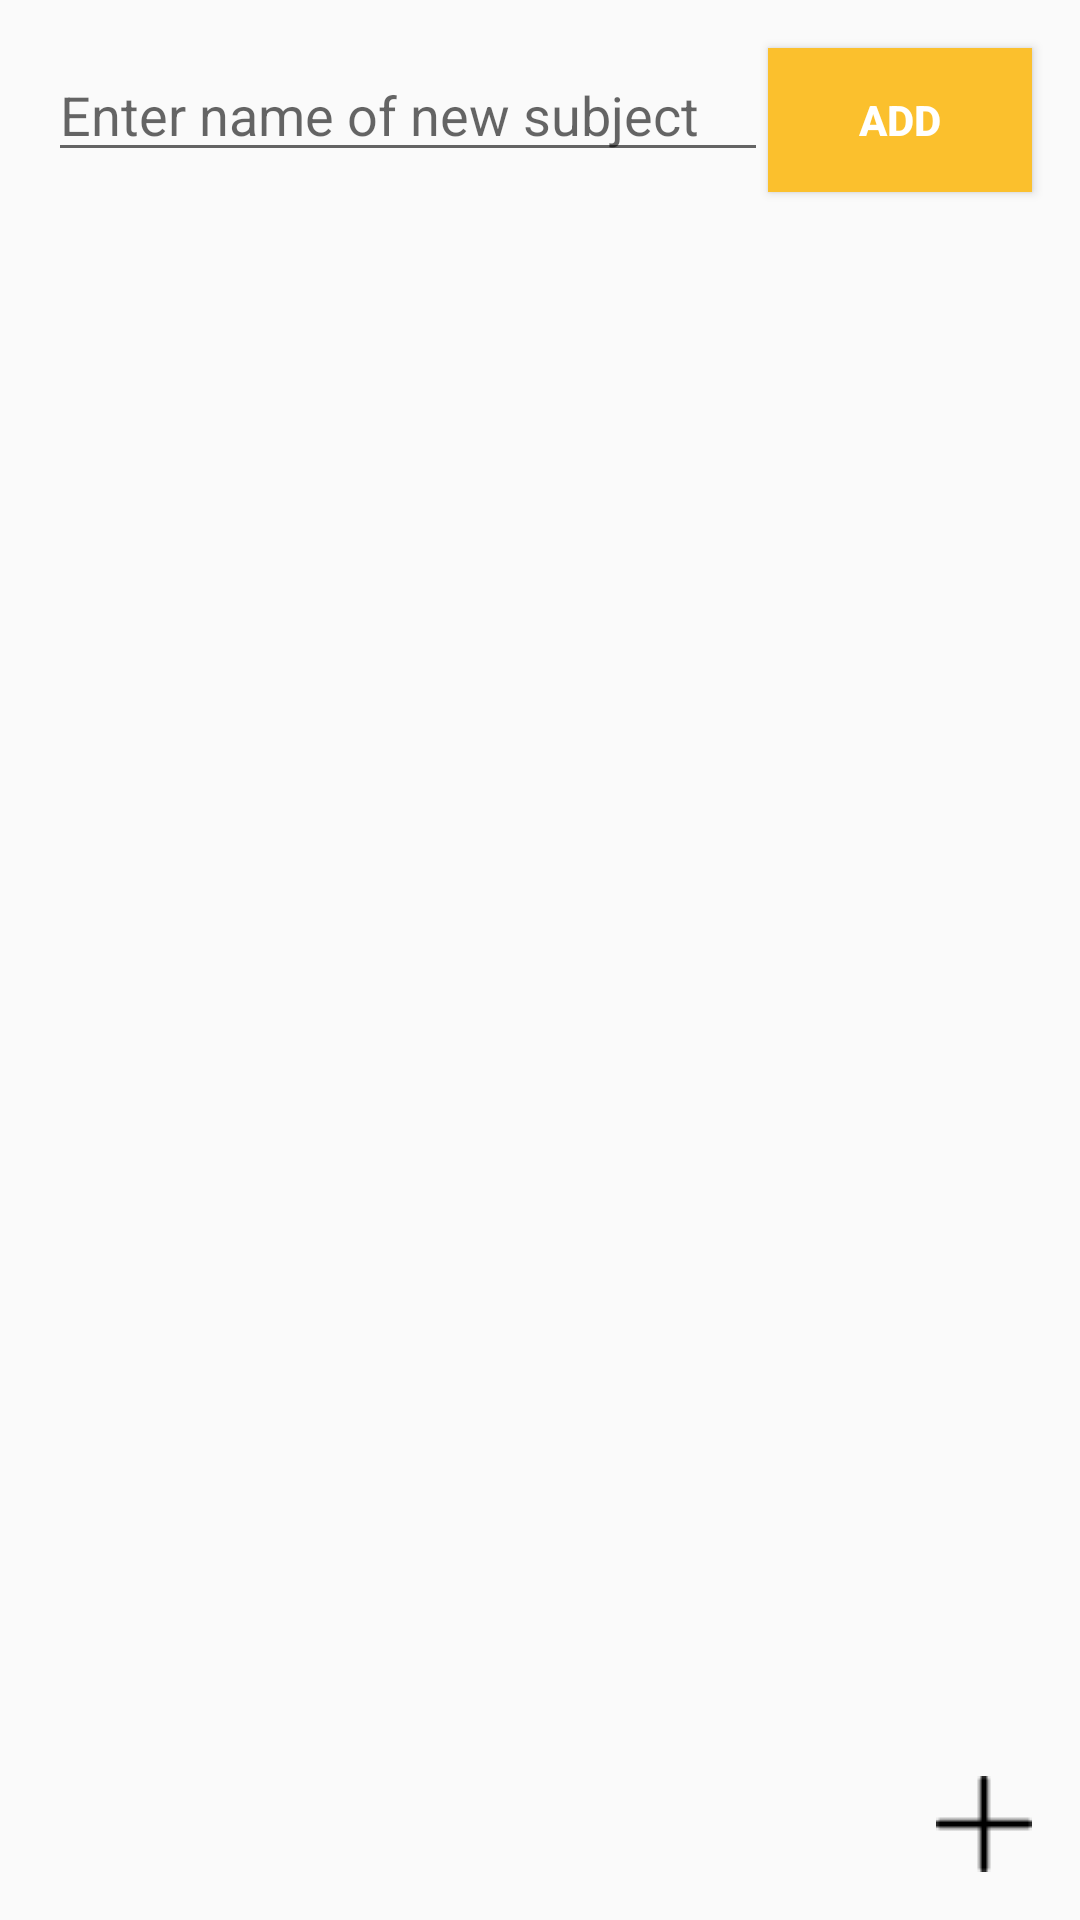

Icons on this 1080x1920 Android screen, each with its box as (x1, y1, x2, y2):
add: (936, 1776, 1032, 1872)
